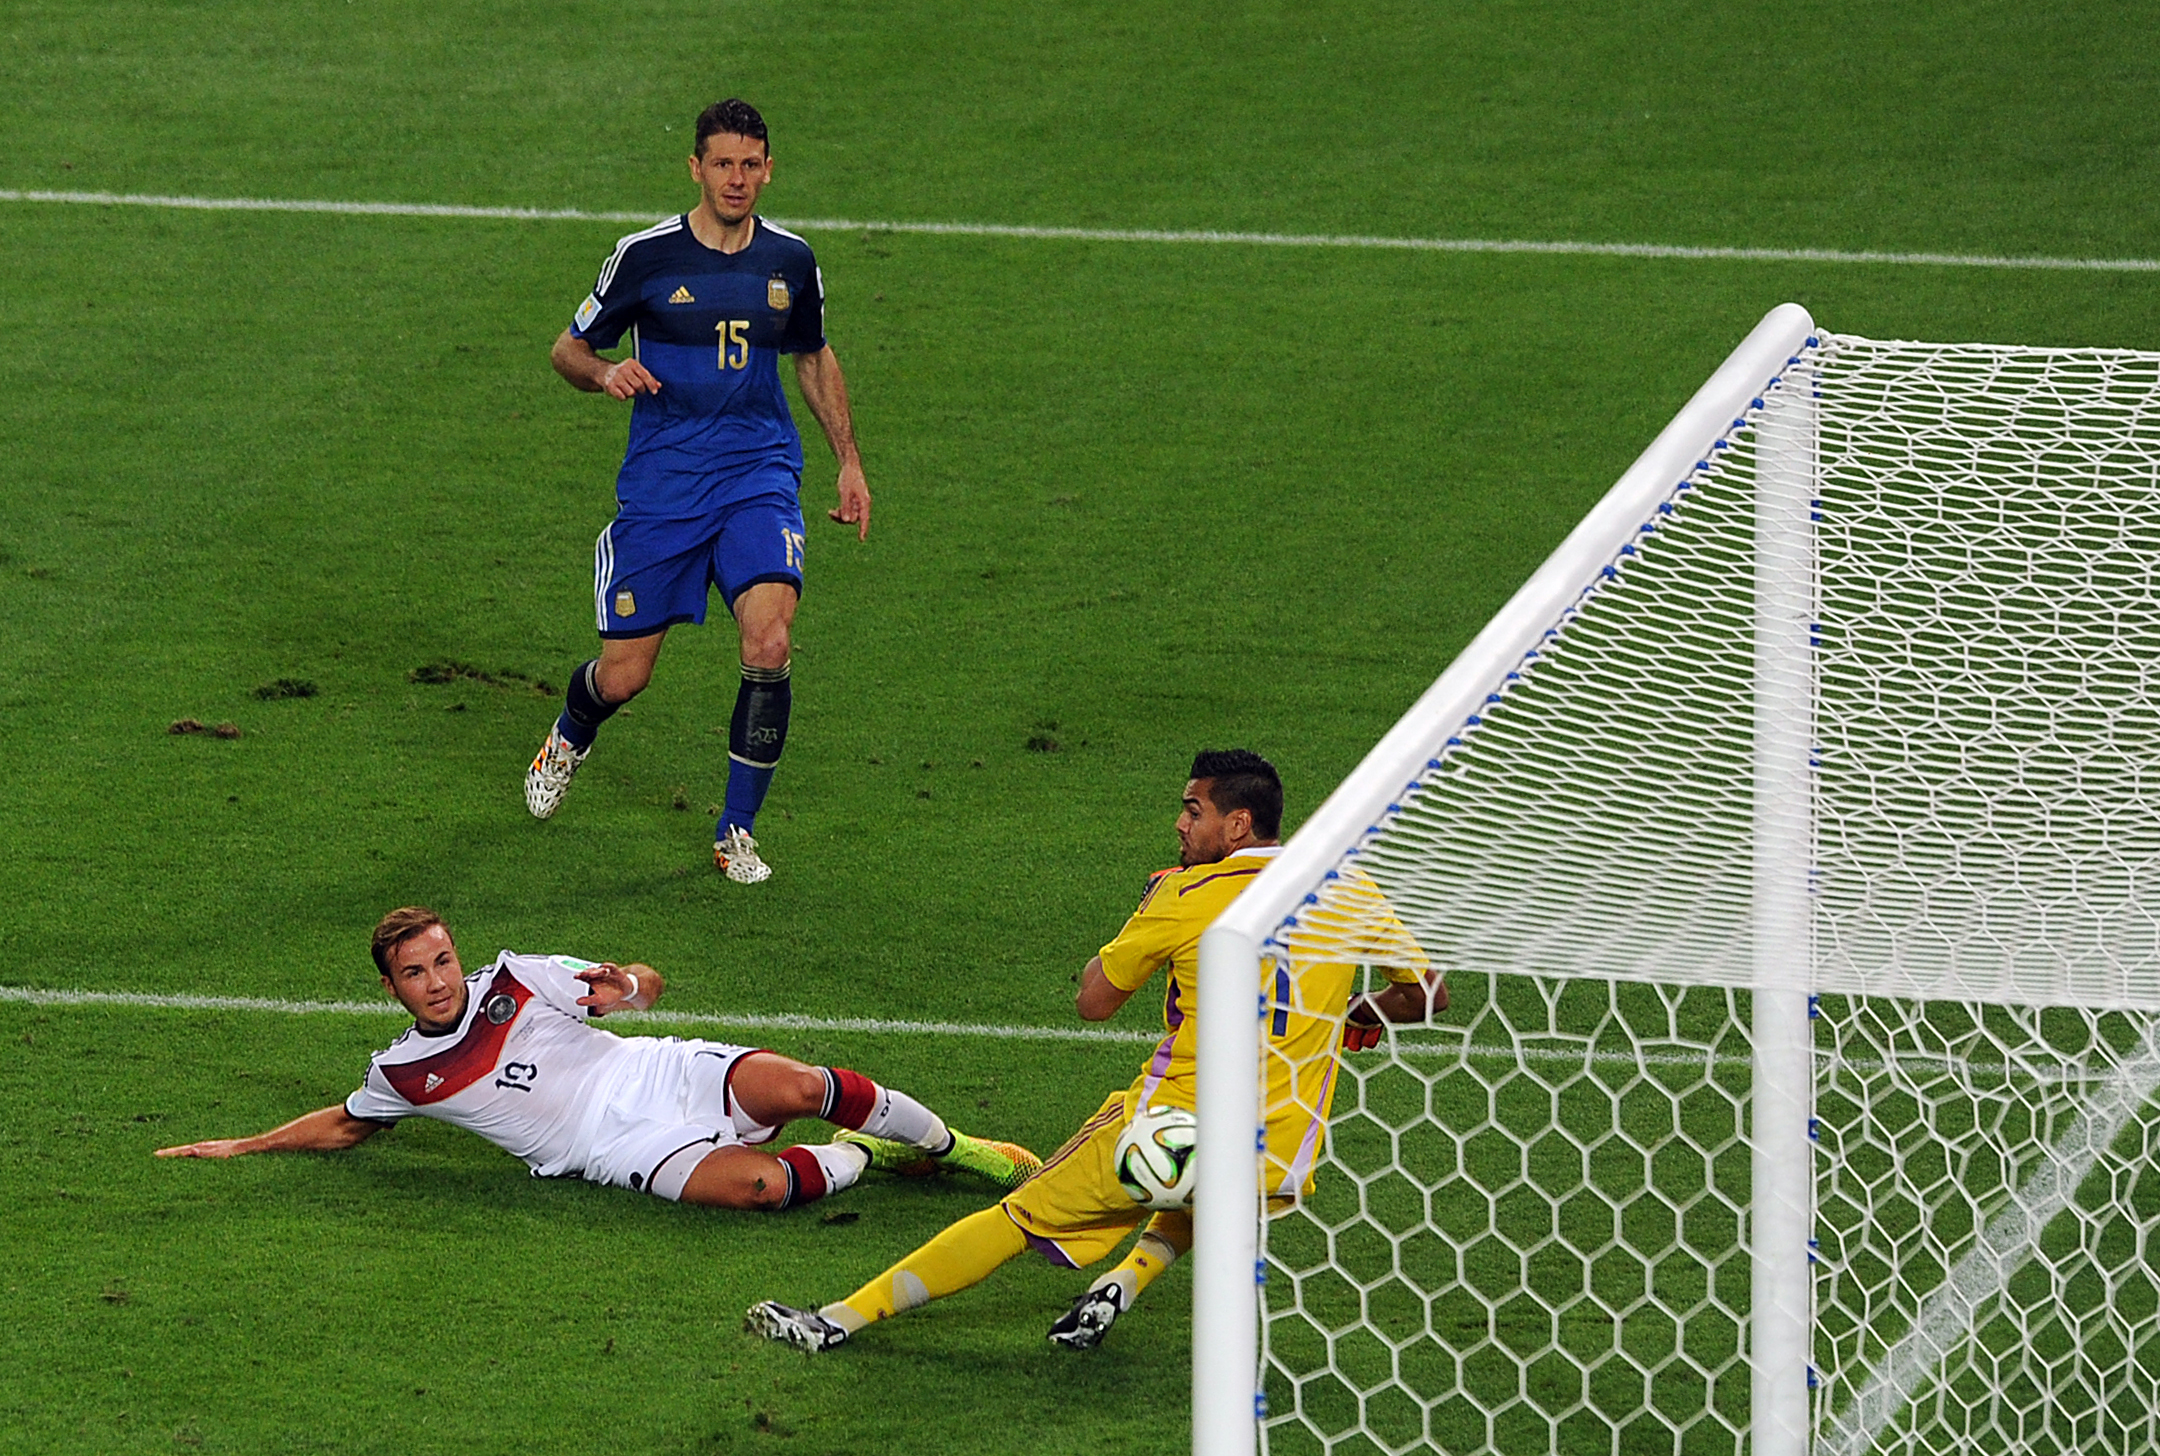football: (1118, 1100, 1196, 1209)
